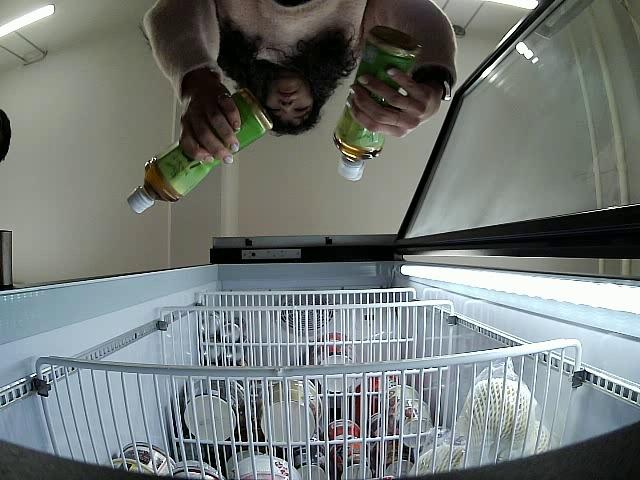00_hand: (346, 68, 439, 142), (180, 89, 244, 169)
19_17cha: (128, 89, 273, 219), (331, 22, 421, 186)
